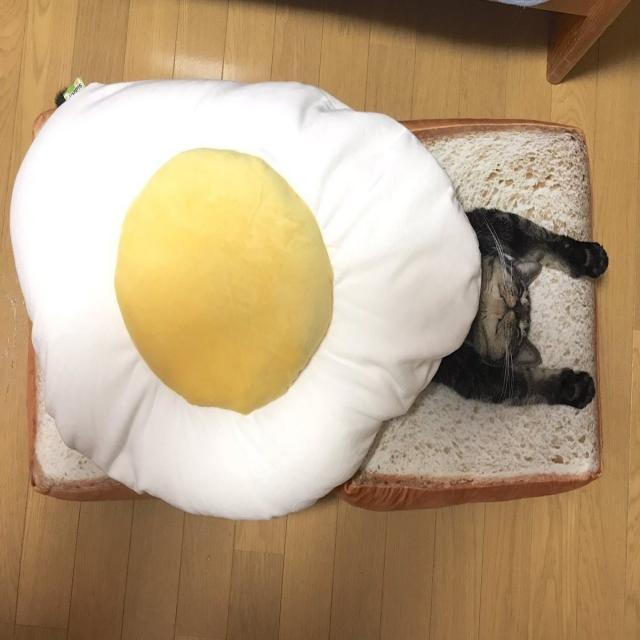cat: (444, 198, 626, 428)
